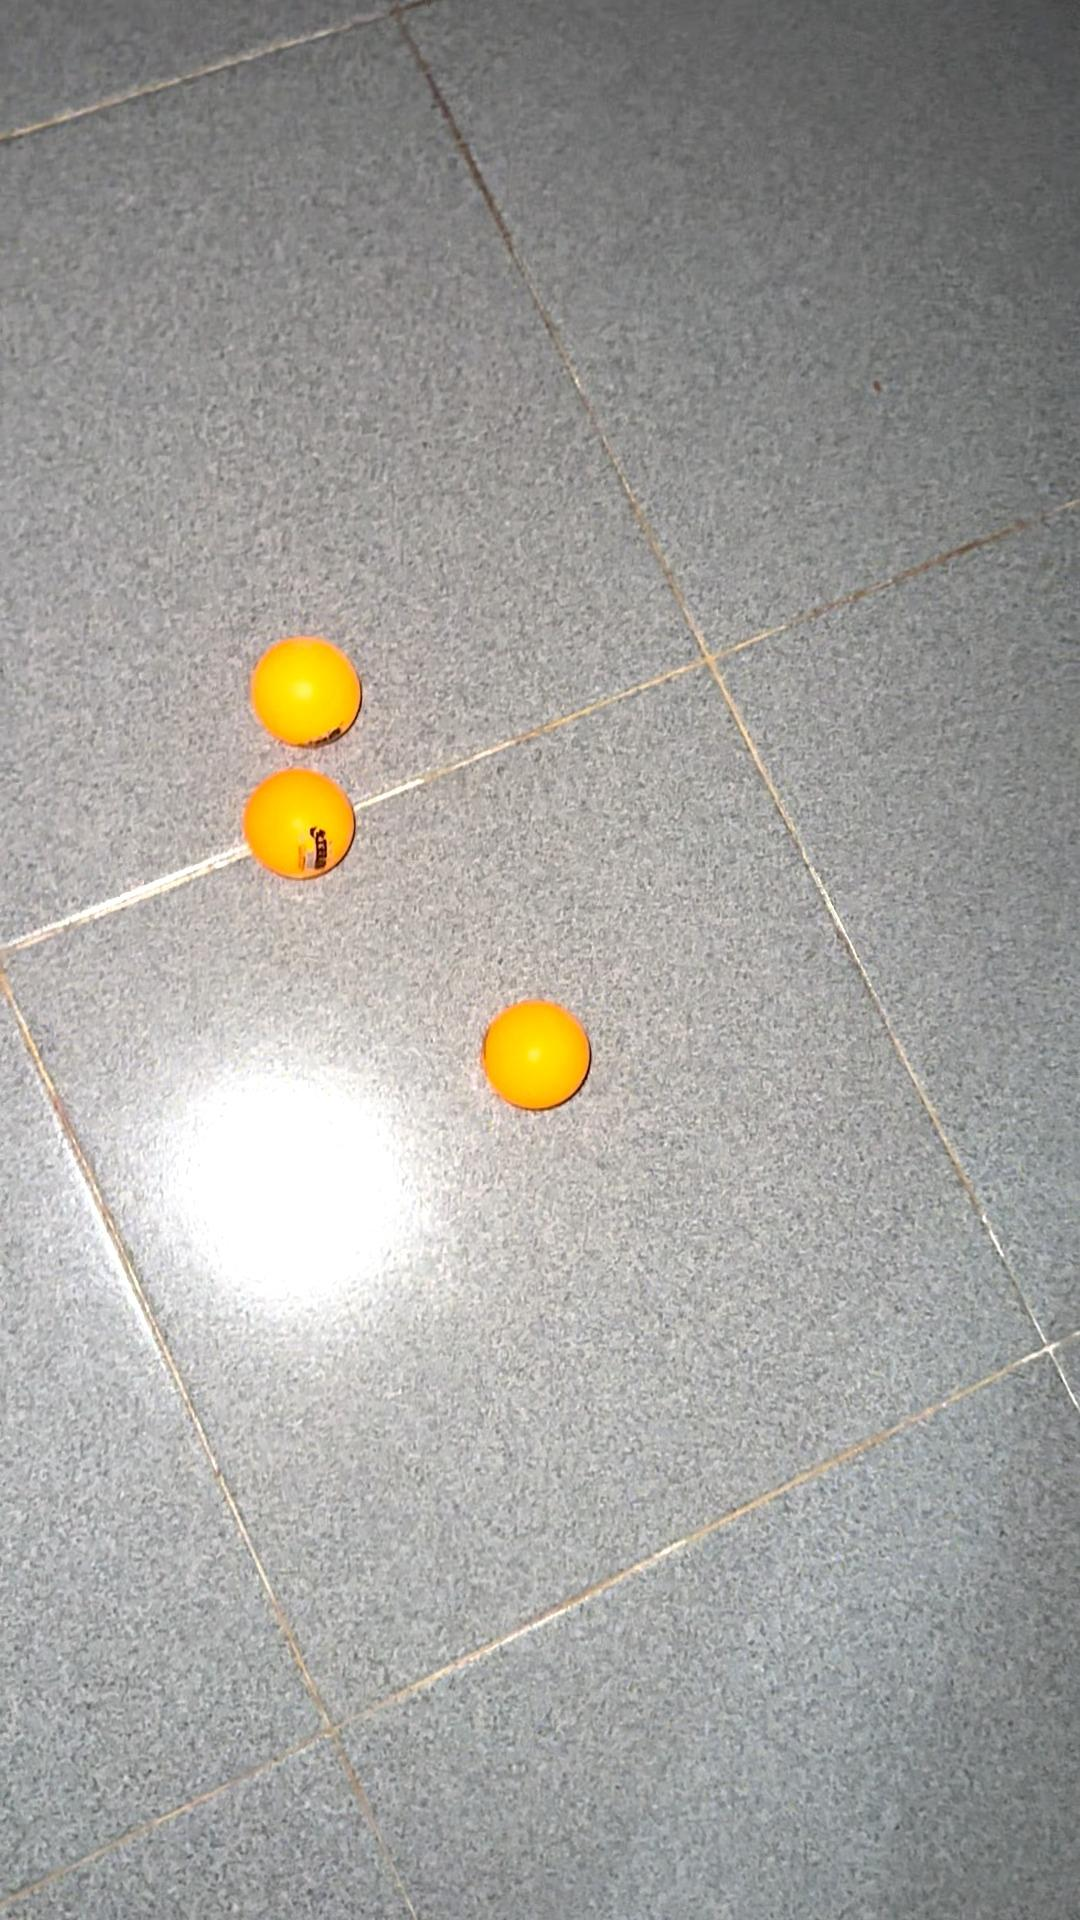oball: (468, 985, 607, 1124), (227, 762, 364, 886), (241, 625, 375, 749)
